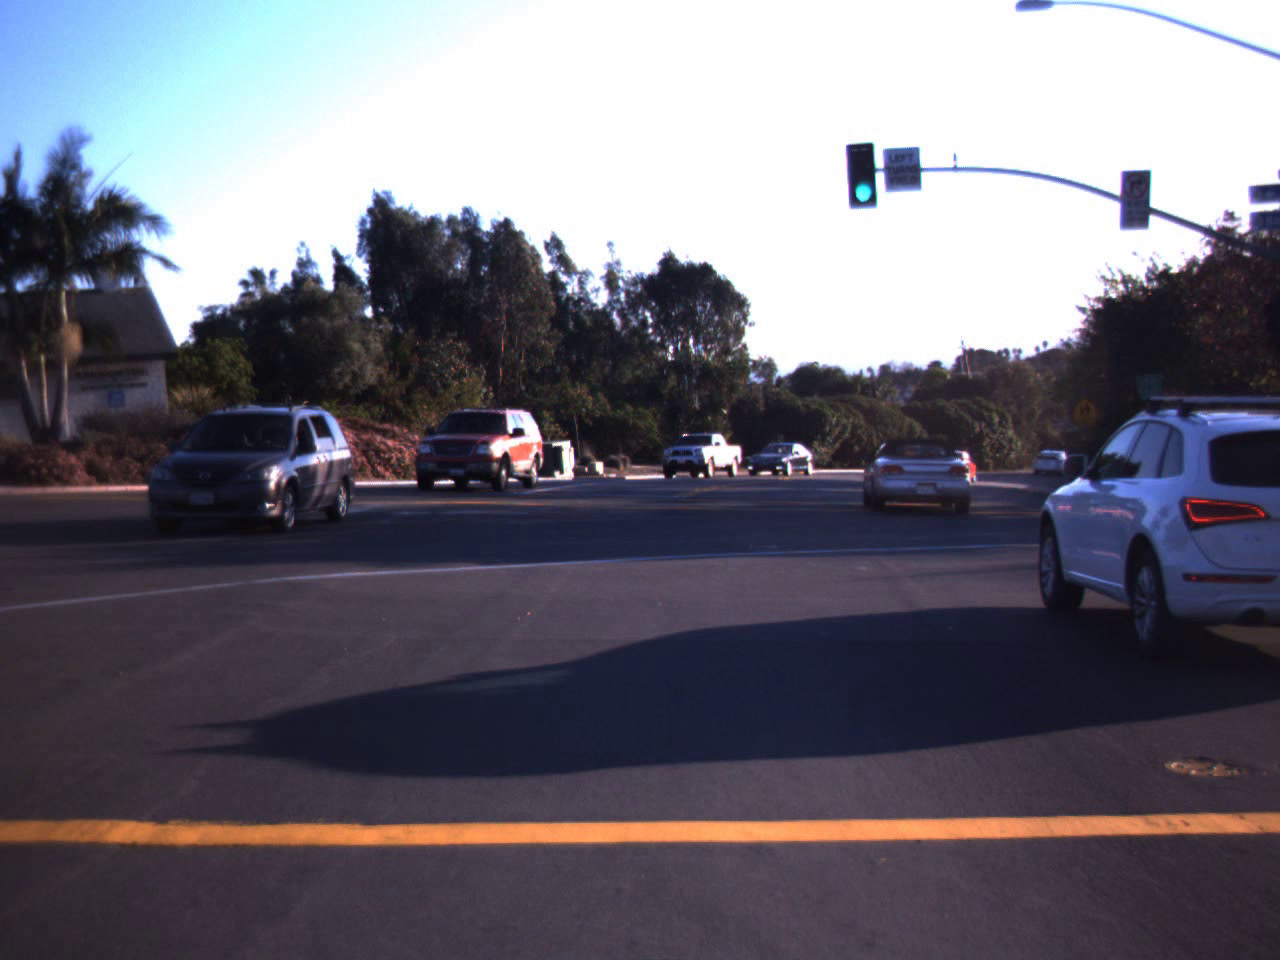go: (842, 133, 884, 208)
